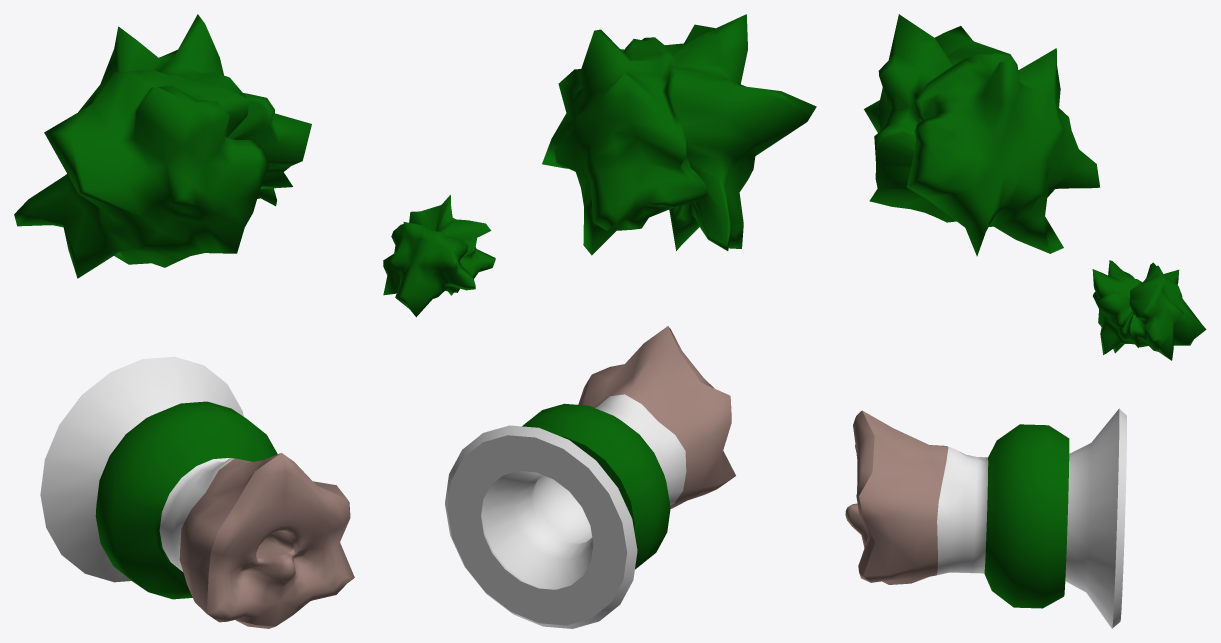
Rendered from Bacteria_Motor.fbx.
3 views of the same model, side by side, from view 1: azimuth 30°, elevation 25°; view 2: azimuth 150°, elevation 25°; view 3: azimuth 270°, elevation 25° (orthographic). The views are drawn at different scales.
Visible parts, largest first — view 1: pPipe1, pSphere14; view 2: pPipe1, pSphere14, pSphere15; view 3: pPipe1, pSphere14, pSphere15.
Boxes of the visible parts, x1,y1,x2,y2 form: pPipe1: [40, 356, 354, 628]; pSphere14: [14, 14, 311, 278]; pPipe1: [445, 326, 735, 628]; pSphere14: [542, 14, 816, 255]; pSphere15: [383, 195, 495, 317]; pPipe1: [845, 408, 1126, 628]; pSphere14: [864, 14, 1099, 256]; pSphere15: [1092, 260, 1206, 360].
Bounding box in the file's own units: 15.74 × 27.3 × 15.96.
